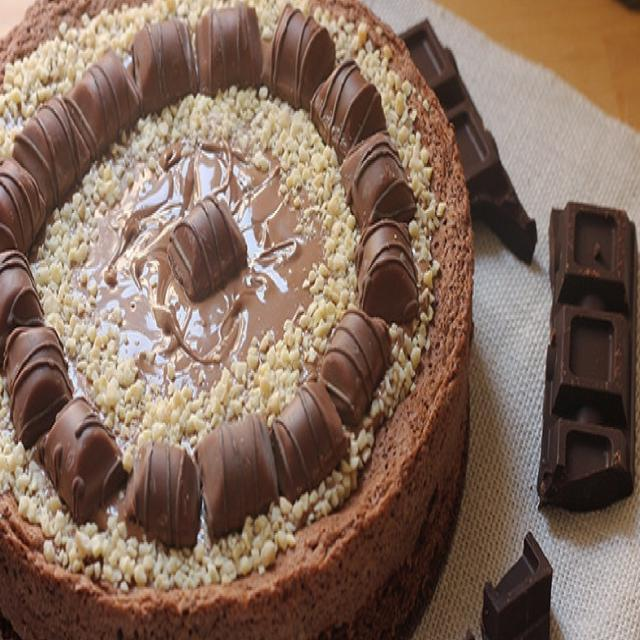Chocolate bar packaged: (542, 187, 636, 547), (165, 194, 254, 294)
